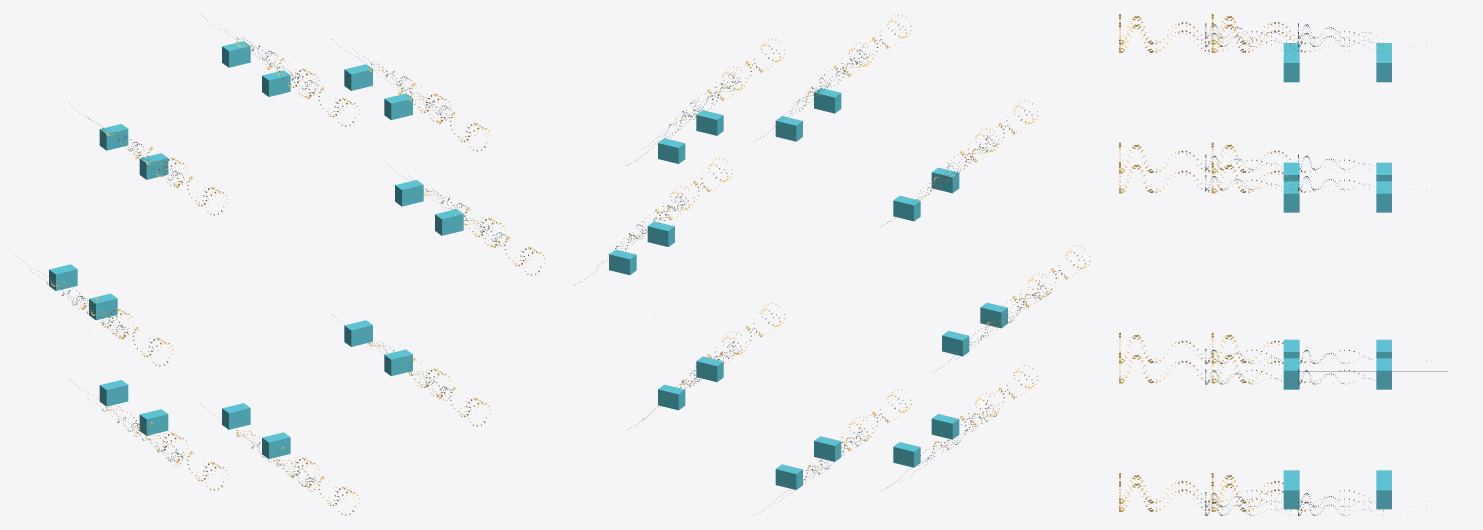
File: HARBOR-perimeter-sensor-ring.glb
3 renders of one model, left to right at view 1: azimuth 30°, elevation 25°; view 2: azimuth 150°, elevation 25°; view 3: azimuth 270°, elevation 25°, orthographic. The views are drawn at different scales.
Visible parts, largest first — view 1: cyan, amber, dark; view 2: cyan, amber, dark; view 3: cyan, amber, dark.
Part boxes in pixels (left/top/right/bottom): cyan: left=49, top=41, right=463, bottom=458; amber: left=14, top=14, right=545, bottom=515; dark: left=31, top=23, right=507, bottom=491; cyan: left=609, top=88, right=1007, bottom=489; amber: left=574, top=14, right=1090, bottom=515; dark: left=597, top=47, right=1052, bottom=483; cyan: left=1283, top=43, right=1391, bottom=509; amber: left=1119, top=14, right=1468, bottom=511; dark: left=1205, top=23, right=1407, bottom=515.
Bounding box in the file's own units: 0.3992 × 0.4024 × 0.2644.
